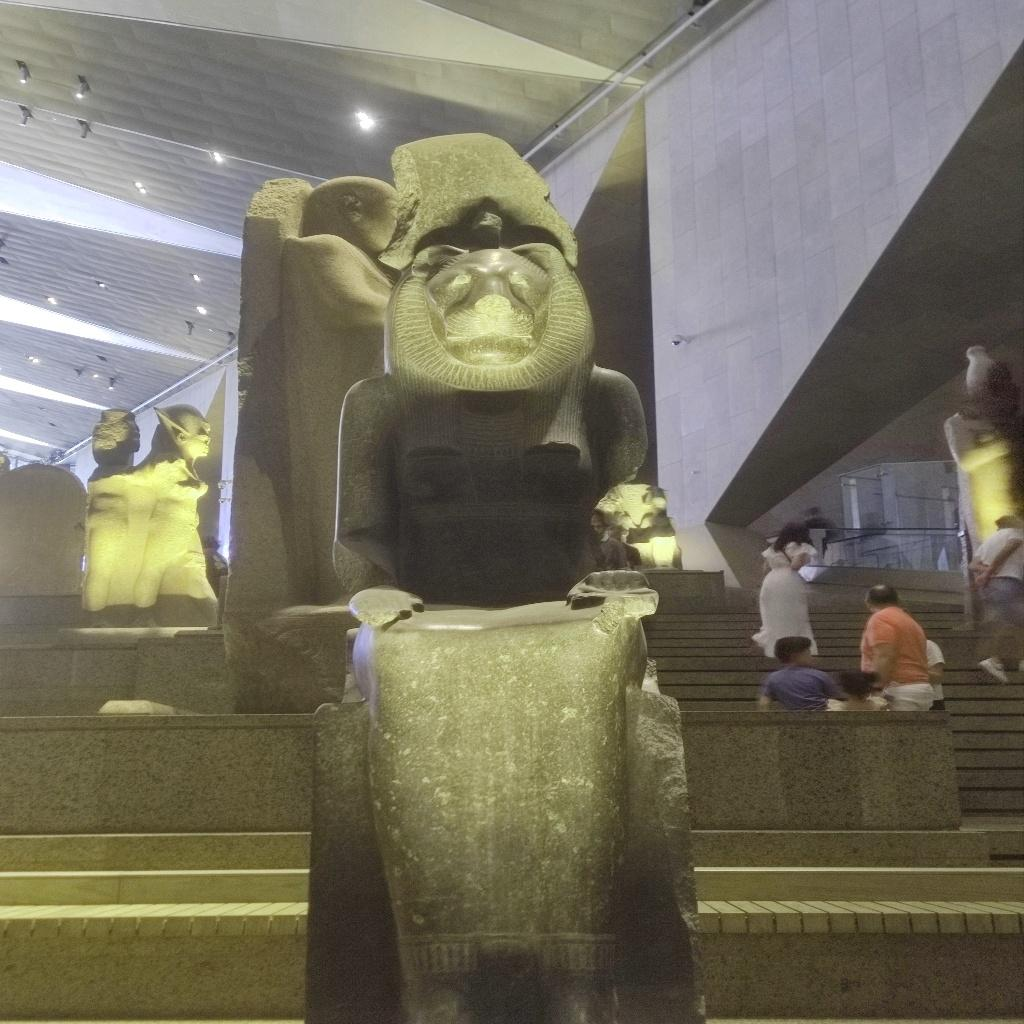Seated Statue of God Sekhmet: (304, 118, 705, 998)
